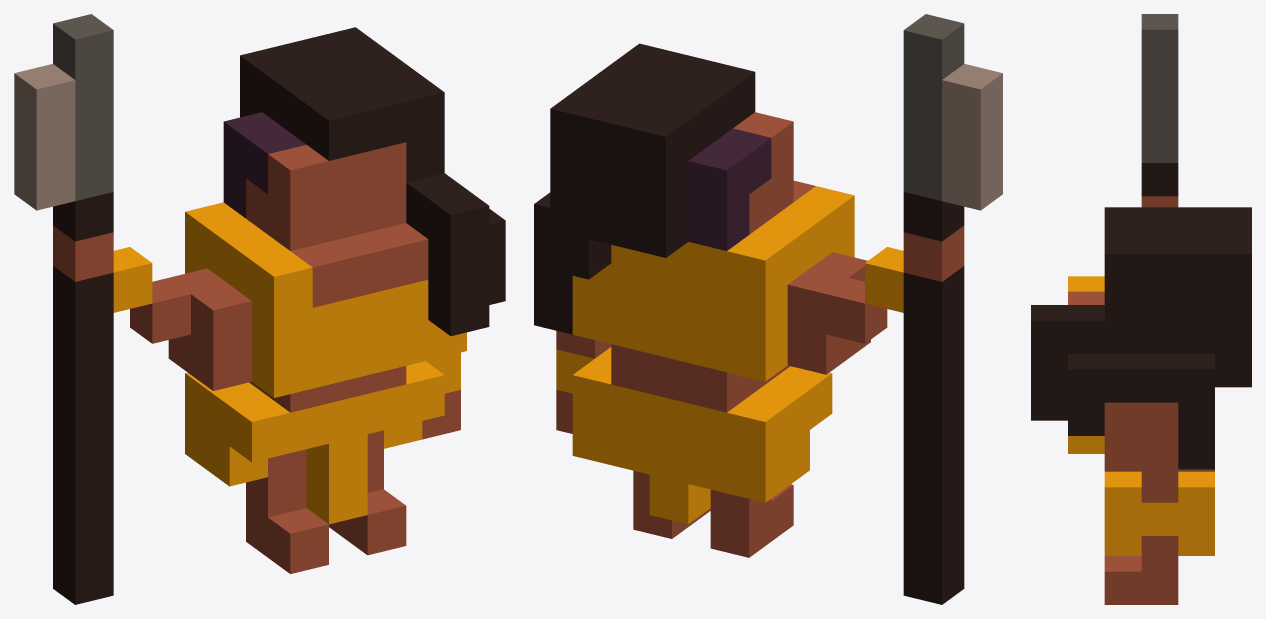
File: amazon_idle_1.obj
The picture shows the model from 3 angles, left to right: view 1: azimuth 30°, elevation 25°; view 2: azimuth 150°, elevation 25°; view 3: azimuth 270°, elevation 25°; orthographic projection. The views are drawn at different scales.
Size of the model in its own units: 1.1 by 1.4 by 0.6.
Materials: 1 (1 with a texture image).
